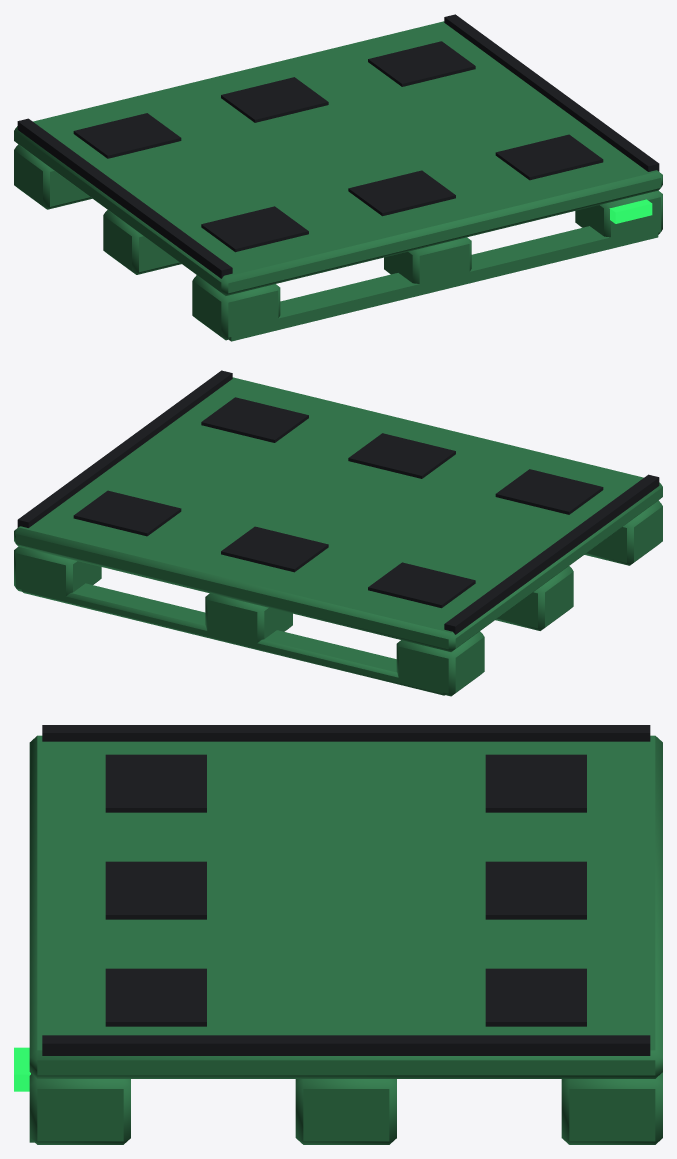
Rendered from pallet_composite_empty.glb.
The picture shows the model from 3 angles, top to bottom: view 1: azimuth 30°, elevation 25°; view 2: azimuth 150°, elevation 25°; view 3: azimuth 270°, elevation 25°; orthographic projection. The views are drawn at different scales.
Parts seen in each view (by area): view 1: pallet_composite_empty; view 2: pallet_composite_empty; view 3: pallet_composite_empty.
Boxes of the visible parts, x1,y1,x2,y2 form: pallet_composite_empty: (14,14,662,341); pallet_composite_empty: (14,370,662,696); pallet_composite_empty: (14,725,662,1144).
Size of the model in its own units: 1.2 by 0.18 by 1.02.
